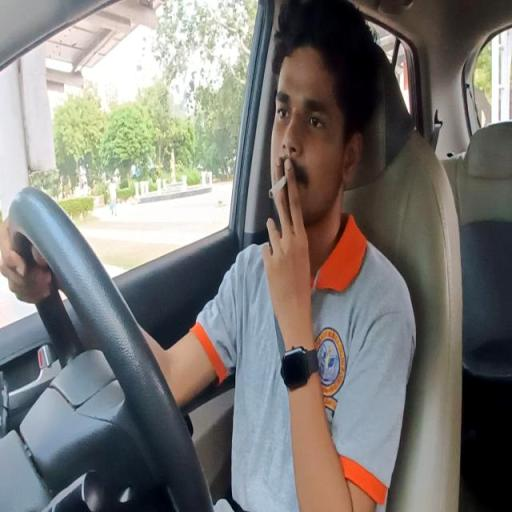Smoking: (14, 12, 416, 510)
